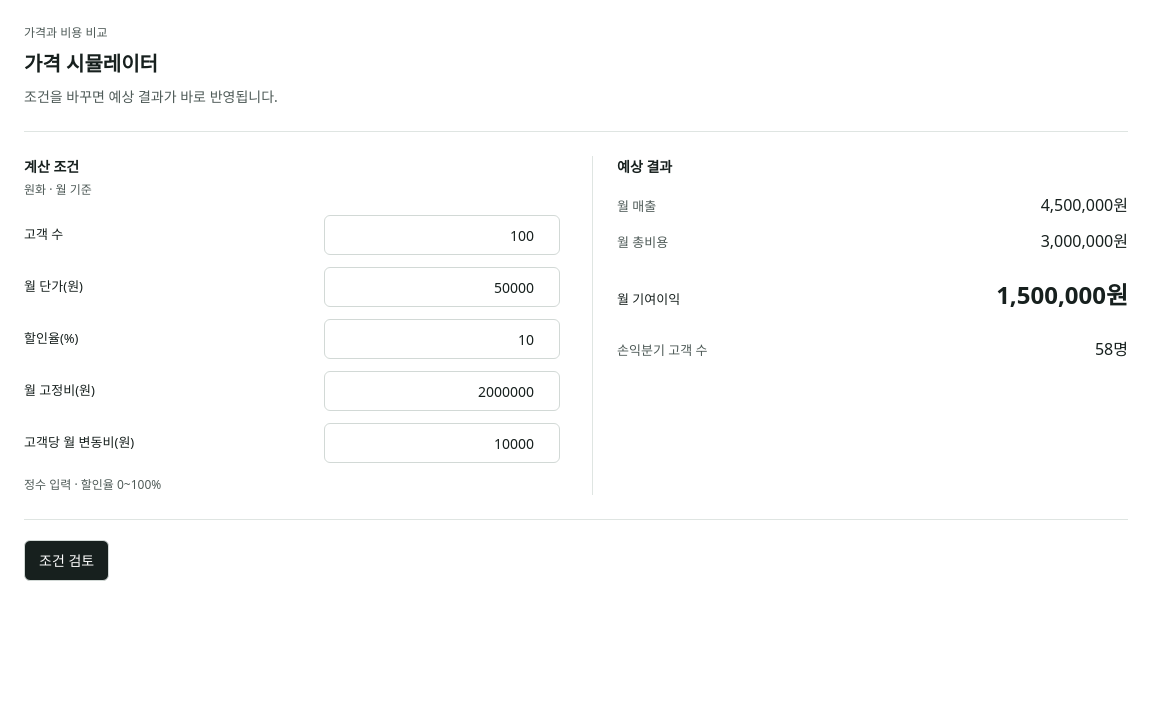
Test: host-owned pricing UI › locks duplicate clicks while submitting
The image size is (1152, 720).
Click the button "조건 검토" at [67, 561], box x1=24 y1=540 x2=109 y2=581
(page scrolled)
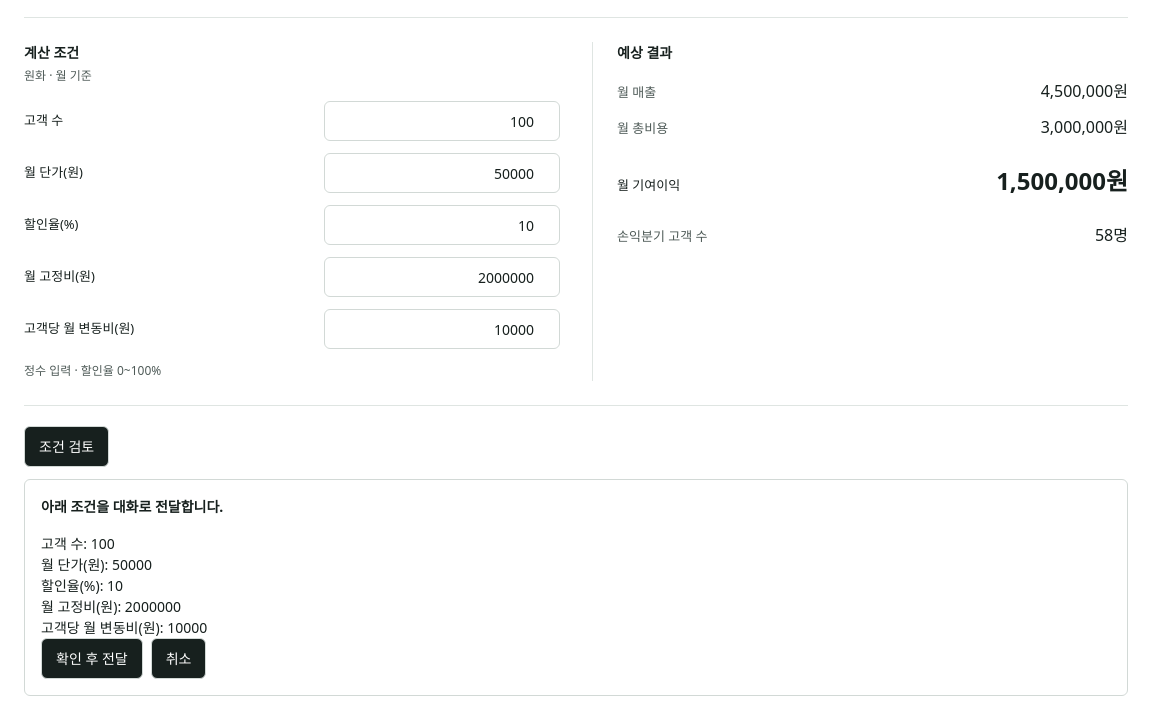
Click the button "확인 후 전달" at [92, 659], box x1=41 y1=638 x2=143 y2=679
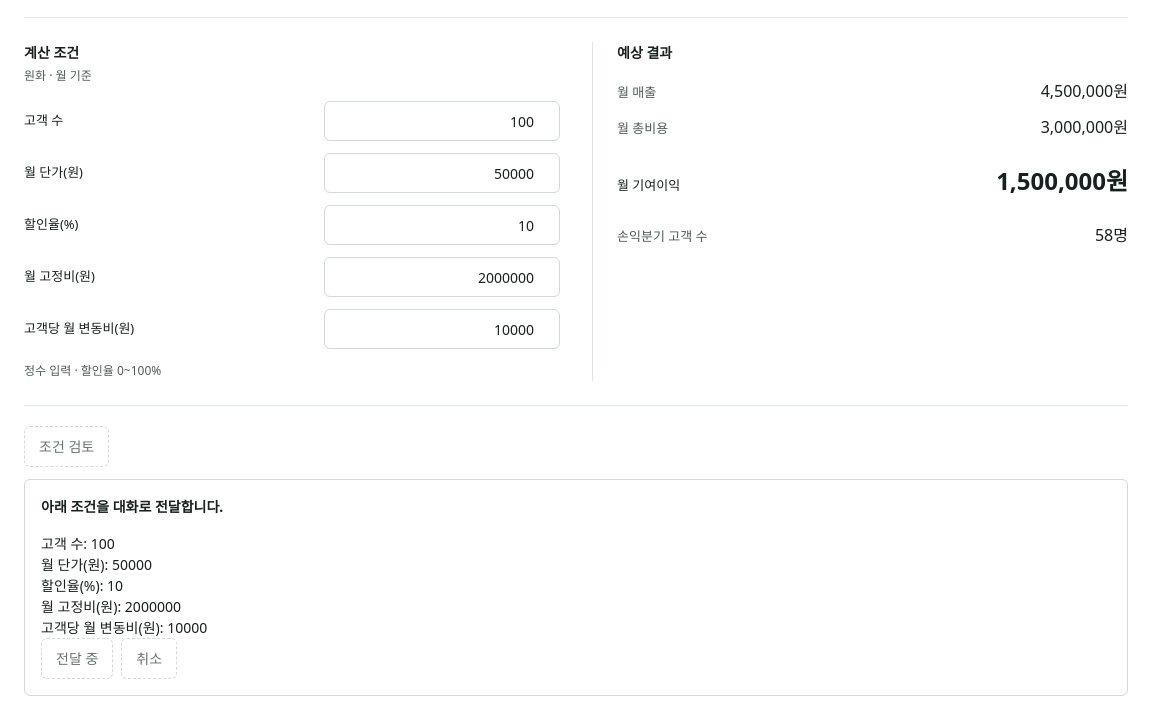
Click the button "확인 후 전달" at [77, 659], box x1=41 y1=638 x2=113 y2=679
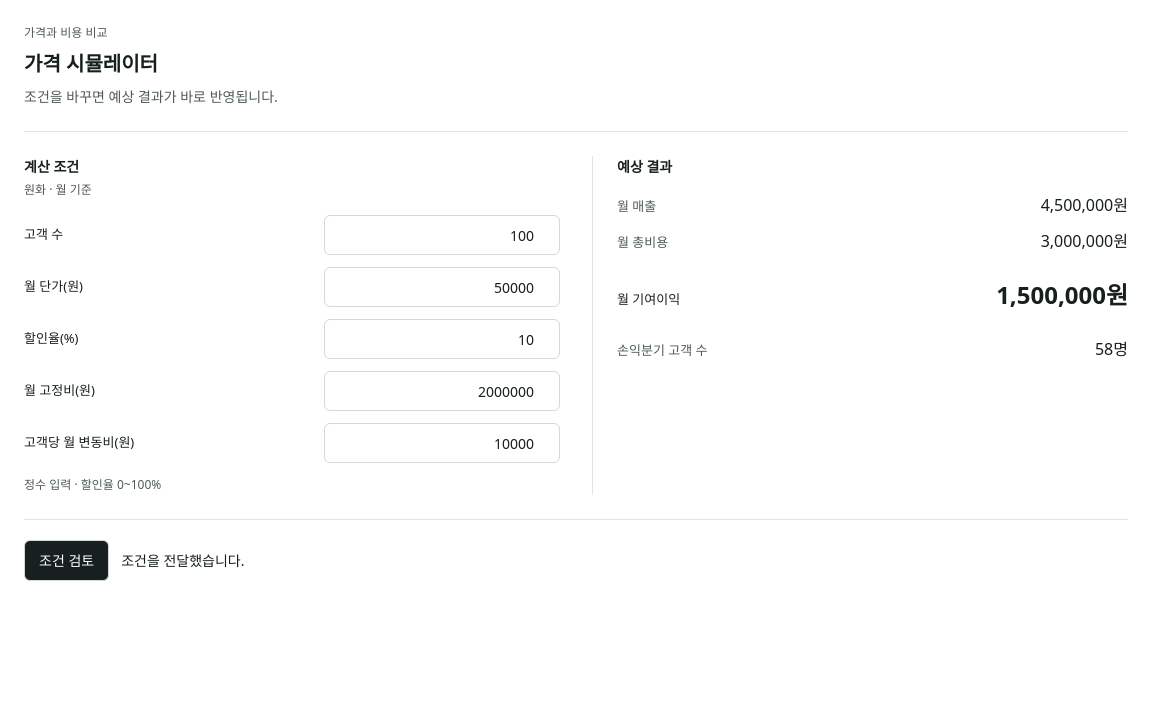
Check: the message shows "전달했습니다", box x1=121 y1=551 x2=244 y2=570
